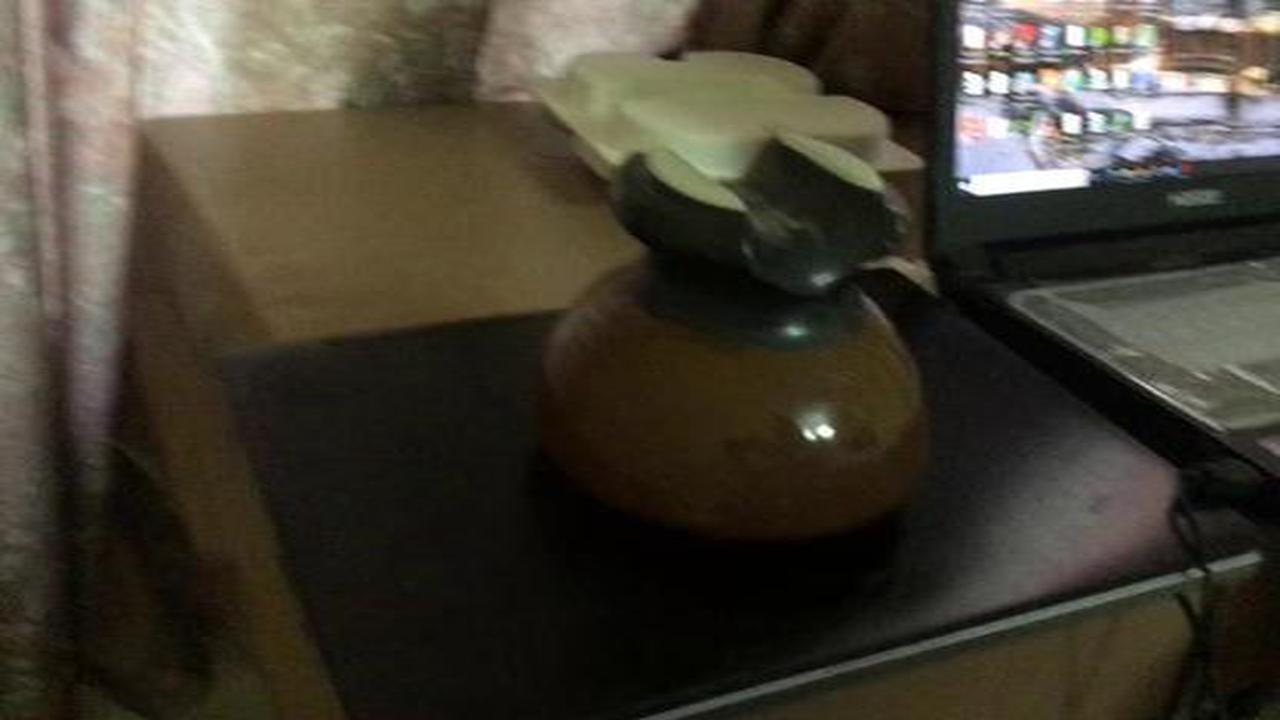insulator_pin: (511, 116, 973, 566)
